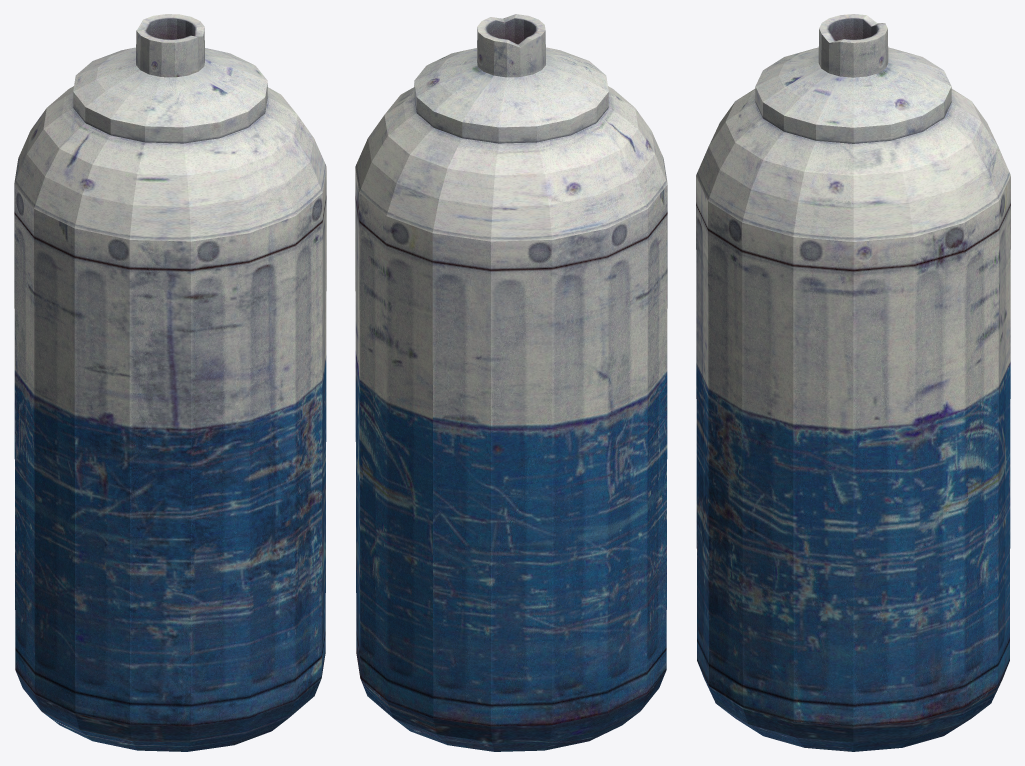
Rendered from qutank_Mesh.fbx.
3 renders of one model, left to right at view 1: azimuth 30°, elevation 25°; view 2: azimuth 150°, elevation 25°; view 3: azimuth 270°, elevation 25°, orthographic.
Visible parts, largest first — view 1: Cylinder.001; view 2: Cylinder.001; view 3: Cylinder.001.
Part boxes in pixels (<box>): Cylinder.001: <box>14,14,326,751</box>; Cylinder.001: <box>355,14,667,751</box>; Cylinder.001: <box>696,14,1010,751</box>.
Size of the model in its own units: 1.77 by 4.22 by 1.77.
